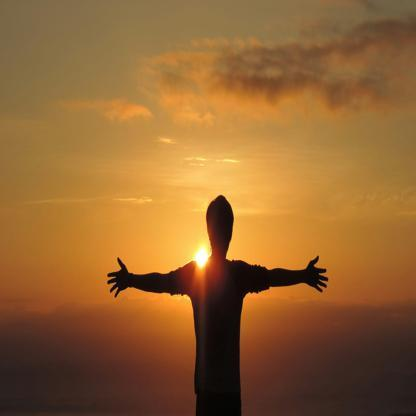person: (109, 187, 335, 416)
